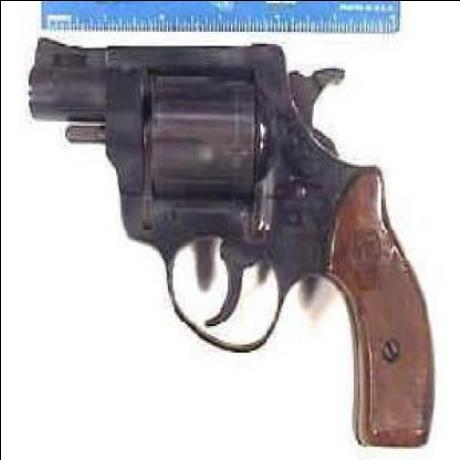weapon: (18, 31, 444, 454)
